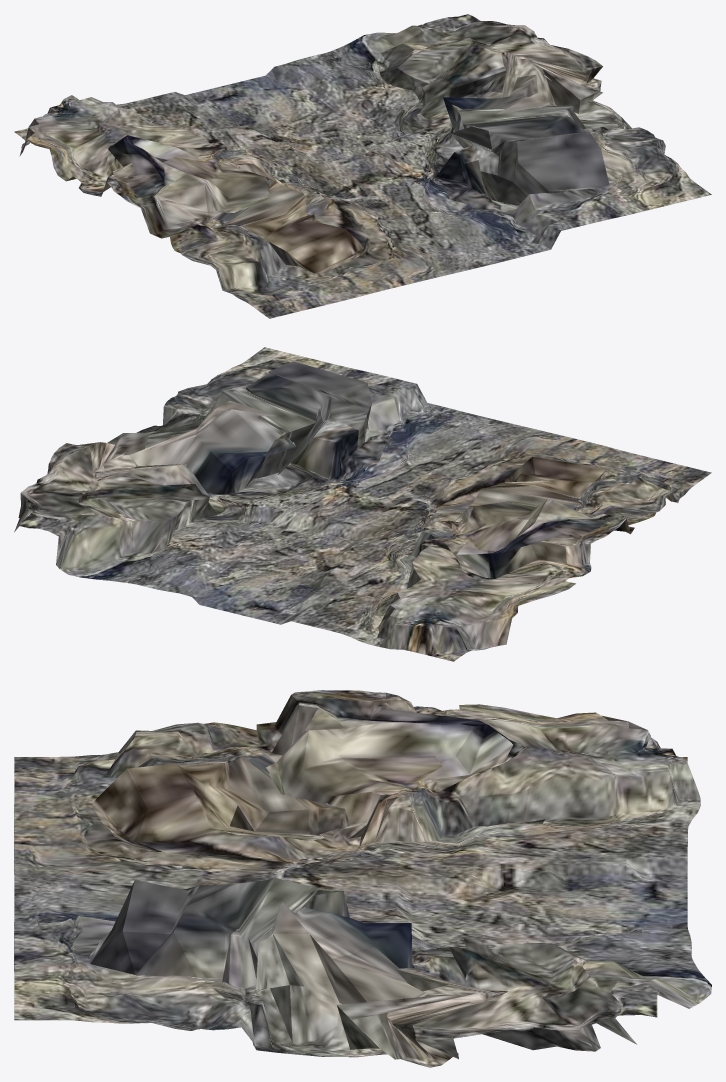
Rendered from rocks.fbx.
3 renders of one model, top to bottom at view 1: azimuth 30°, elevation 25°; view 2: azimuth 150°, elevation 25°; view 3: azimuth 270°, elevation 25°, orthographic. The views are drawn at different scales.
Parts seen in each view (by area): view 1: Plane; view 2: Plane; view 3: Plane.
Boxes of the visible parts, x1,y1,x2,y2 form: Plane: (14, 14, 711, 318); Plane: (14, 347, 711, 661); Plane: (14, 690, 711, 1067).
Size of the model in its own units: 10830 by 1155 by 9460.
